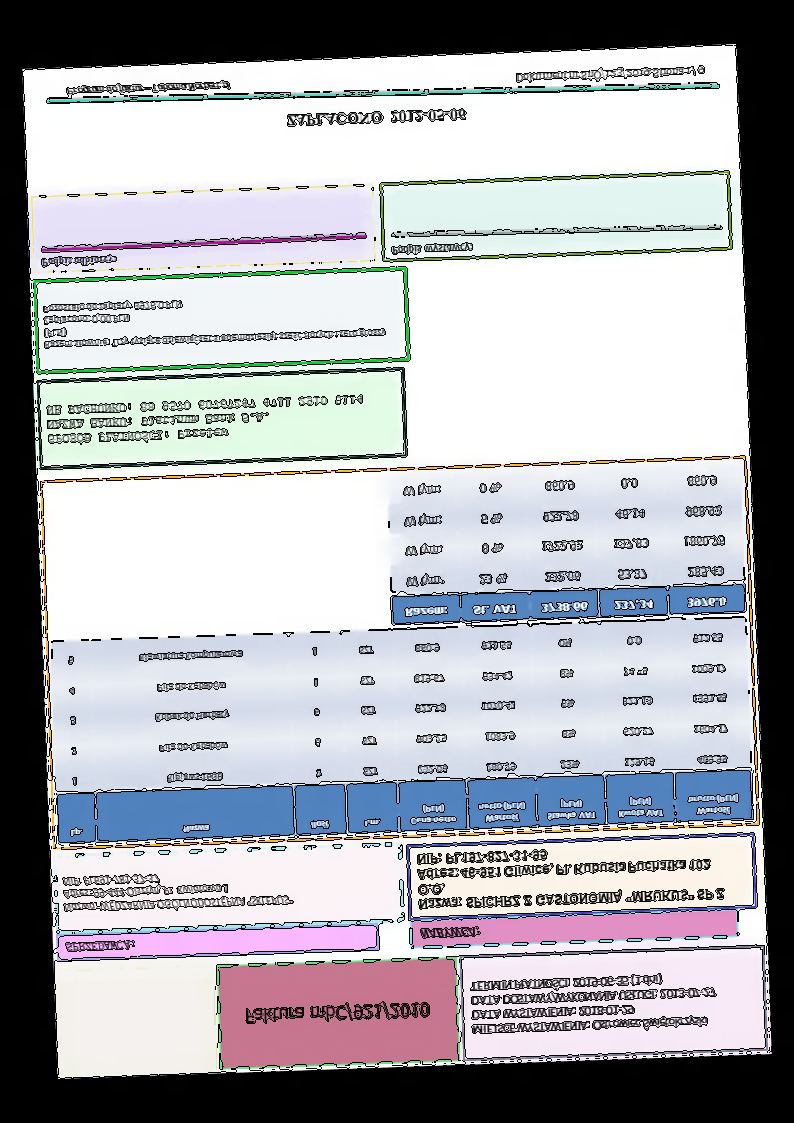Table: (48, 614, 755, 846), (386, 461, 749, 625)
TextBox: (412, 838, 729, 915), (39, 289, 389, 353), (44, 388, 367, 450), (466, 968, 720, 1039), (59, 864, 298, 919), (235, 995, 433, 1034), (511, 59, 708, 87), (283, 103, 472, 130), (62, 78, 236, 103), (388, 238, 477, 259), (38, 250, 119, 273), (416, 921, 481, 946), (60, 937, 135, 957)
